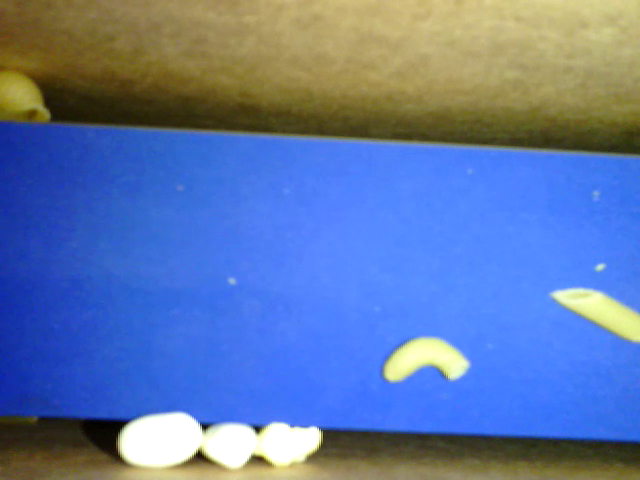elbow: (383, 335, 473, 383)
penne: (548, 284, 638, 344)
shell: (3, 67, 50, 123)
